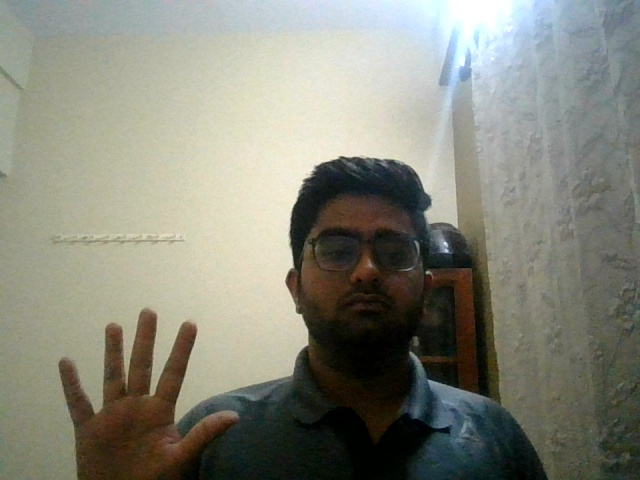Hello: (42, 296, 246, 476)
